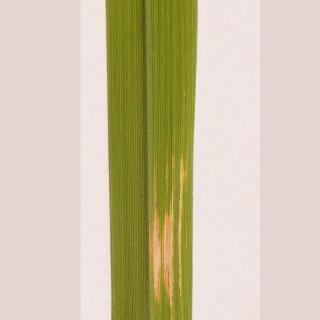Hawar-Daun: (143, 125, 193, 320)
